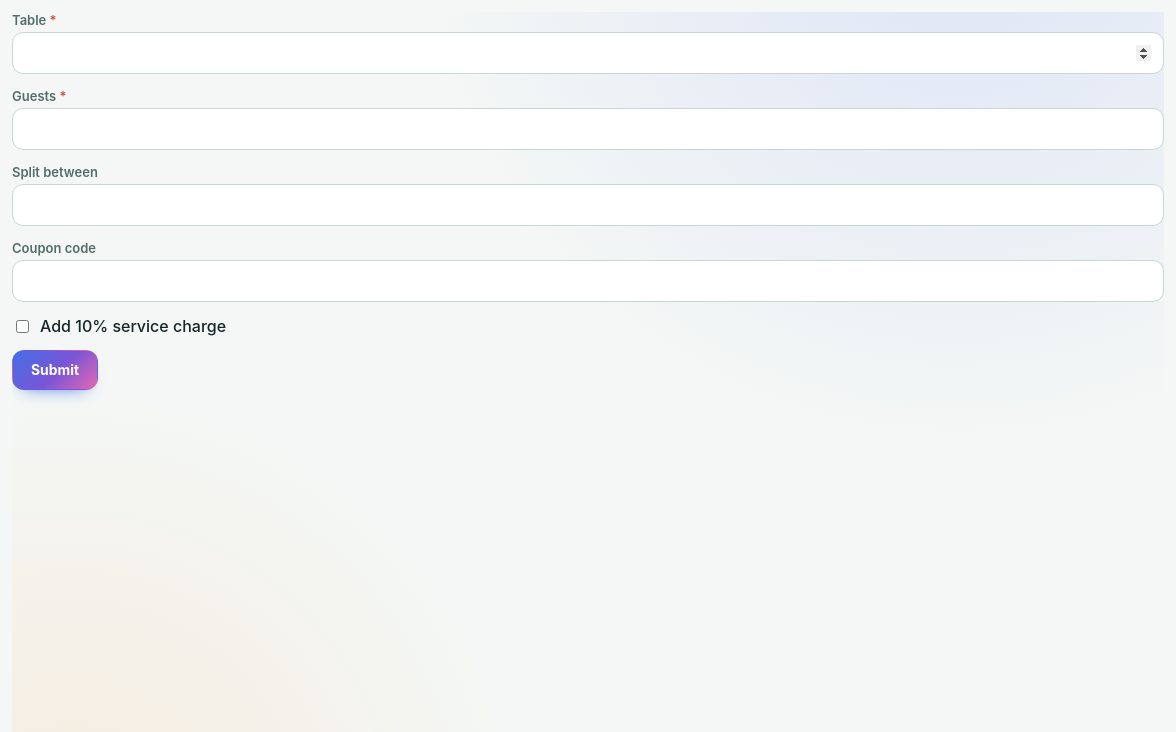
Test: <DynamicFormRenderer /> › clears an error as soon as the field is fixed
The image size is (1176, 732).
Click the button "Submit": (55, 370) [12,350,98,390]
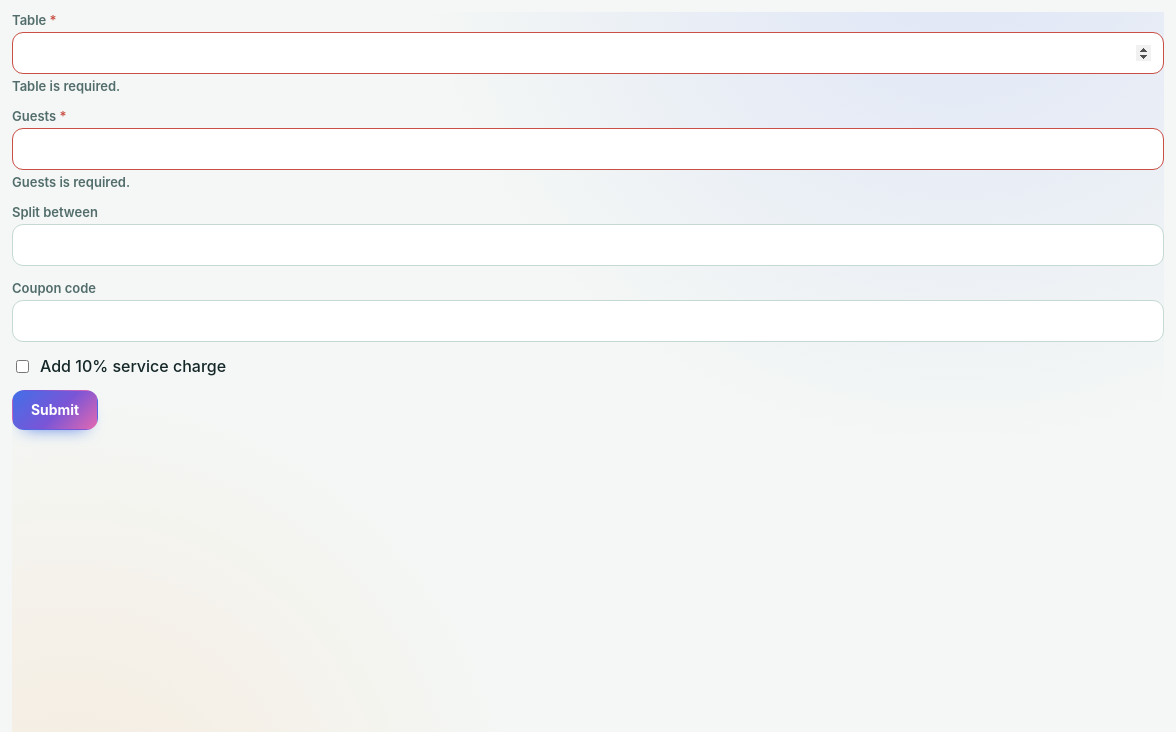
Expected: the text "Guests is required." is shown, [12,174,130,190]
In the number field labelled "Guests *": (588, 149) [12,128,1164,170], type "2"
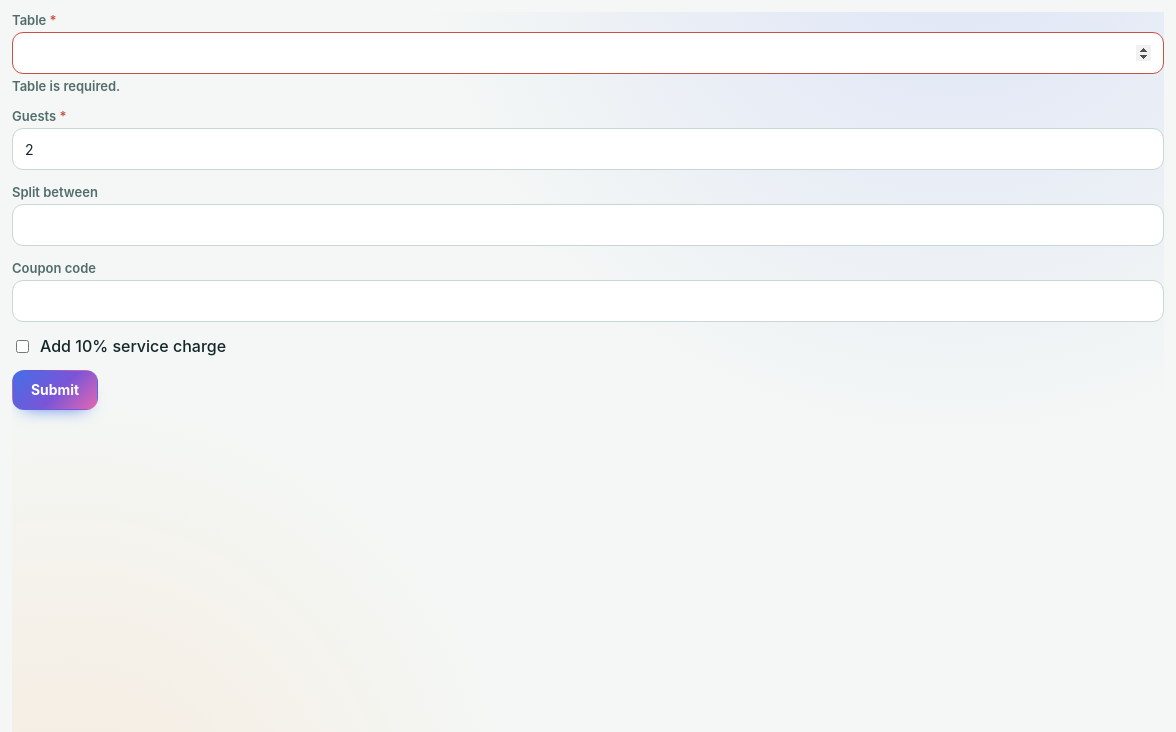
Expected: the text "Guests is required." is gone
